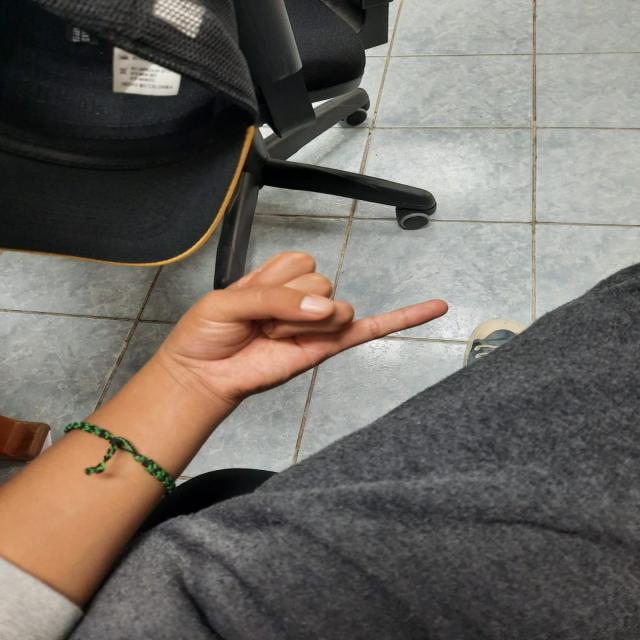Z: (139, 235, 478, 420)
